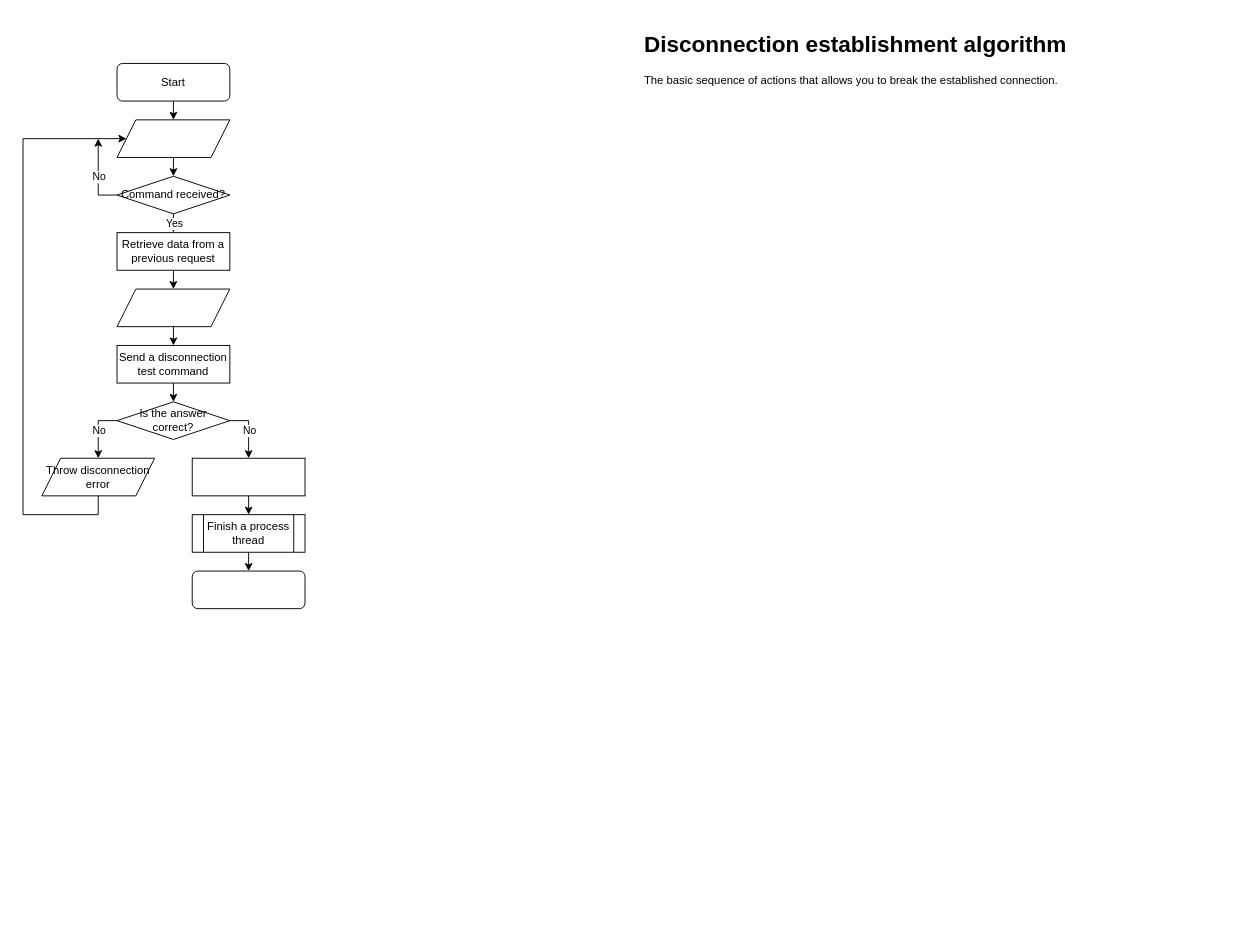
Some shapes in this 1258 by 944 pixel diagram are drawn without their labels. The centre of each missing label's shape, as x and y in pixels:
"Display received data on the screen" goes at pixel 173 307.
"Establish a disconnection" goes at pixel 248 476.
"Finish" goes at pixel 248 589.
"Wait for disconnection commands" goes at pixel 173 138.
